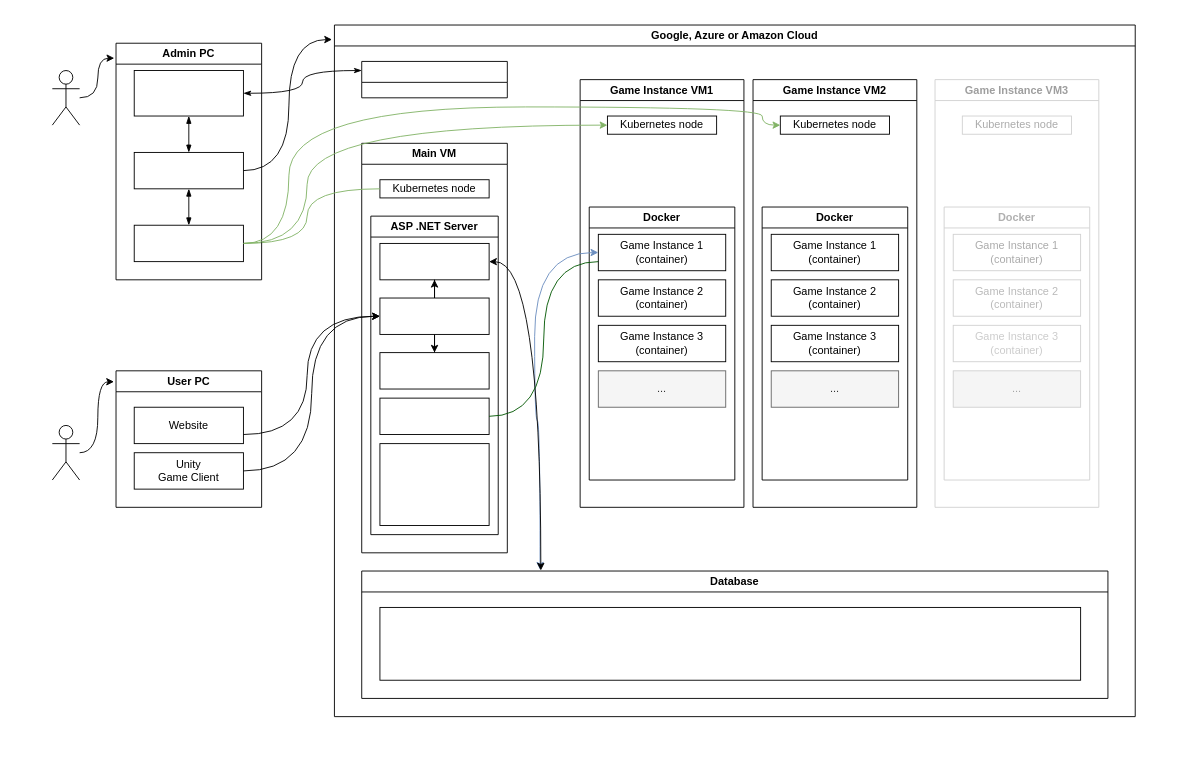
Image size: 1192x778. Some labels were removed from this diagram. Here are the shapes that lost their labels. From the top down, the centre of each, then its label:
At pixel 65 97: "Admin".
At pixel 188 93: "Node.js Server".
At pixel 434 79: "VM Monitoring".
At pixel 188 170: "Terraform".
At pixel 188 243: "Kubernetes".
At pixel 434 261: "Web service".
At pixel 434 315: "Login service".
At pixel 434 370: "Chat Hubs".
At pixel 434 416: "Instance Hubs".
At pixel 65 452: "User".
At pixel 434 484: "Game Insance Handler".
At pixel 730 643: "NoSQL".
